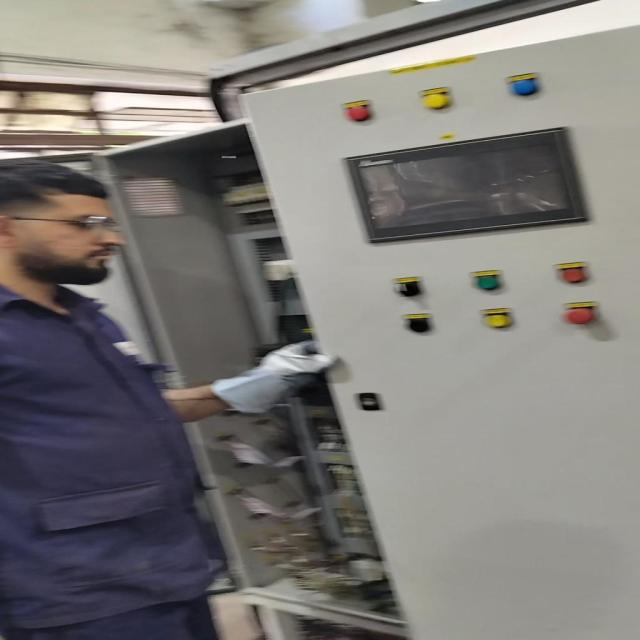Gloves-Detection: (198, 337, 328, 426)
